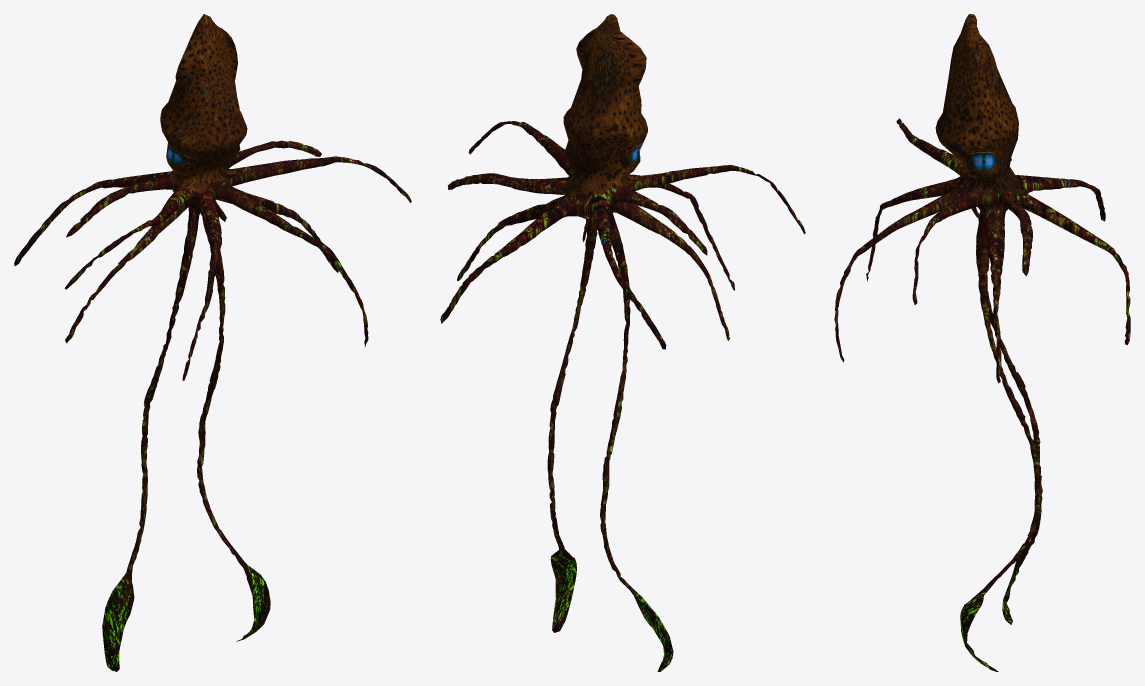
File: Sprut.FBX
3 renders of one model, left to right at view 1: azimuth 30°, elevation 25°; view 2: azimuth 150°, elevation 25°; view 3: azimuth 270°, elevation 25°, orthographic. The views are drawn at different scales.
Visible parts, largest first — view 1: default; view 2: default; view 3: default.
Part boxes in pixels (x1=…): default: x1=14, y1=14, x2=411, y2=671; default: x1=440, y1=14, x2=805, y2=671; default: x1=834, y1=14, x2=1130, y2=671.
Size of the model in its own units: 5.73 by 10.26 by 4.28.
